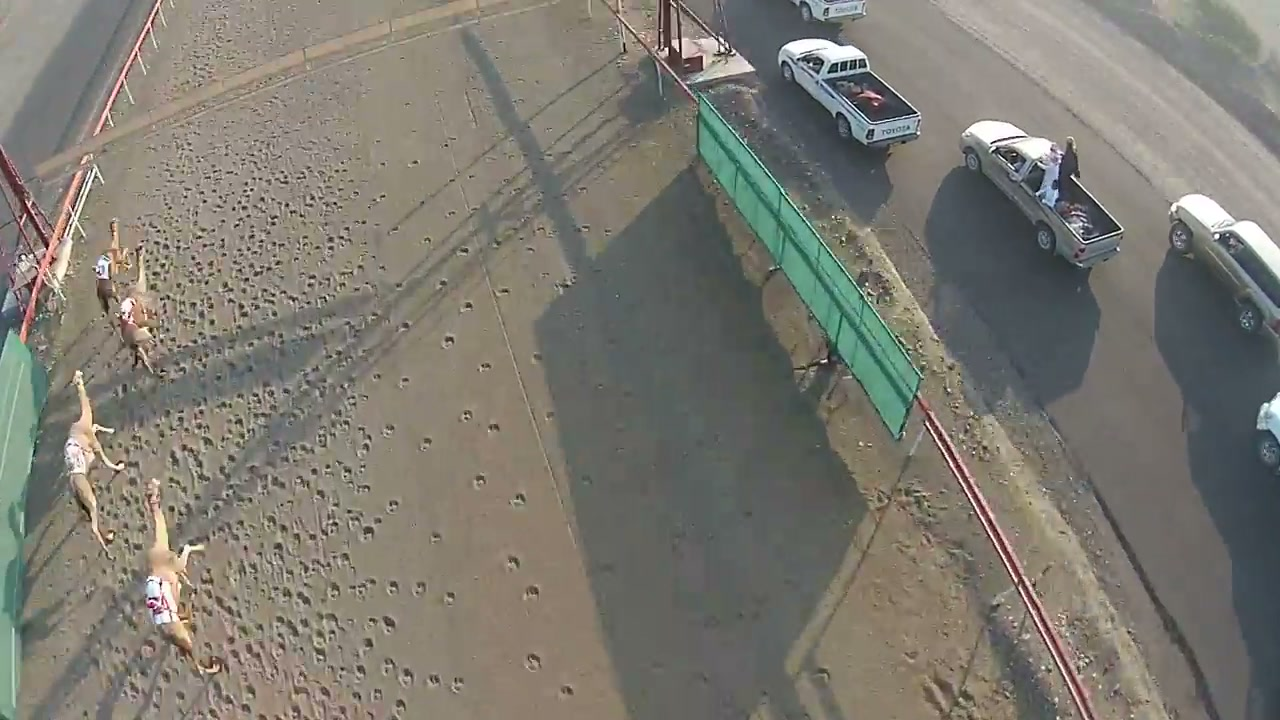animal_foot_print: (106, 244, 391, 691)
